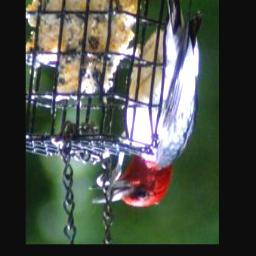Woodpecker: (86, 0, 203, 210)
